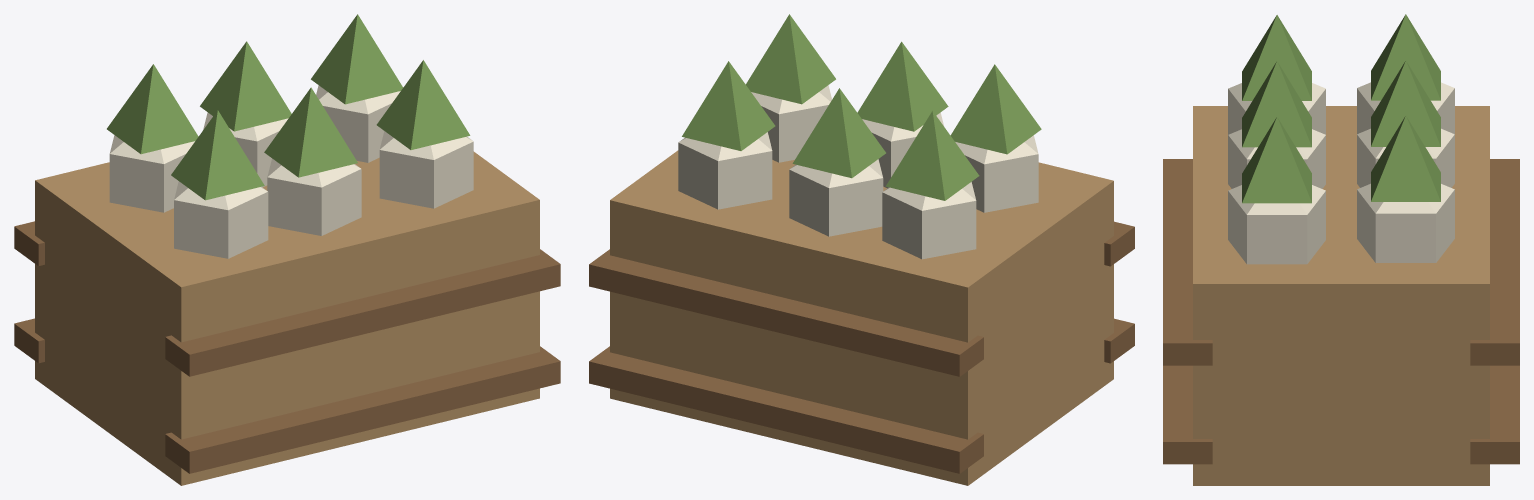
The model's file is work-crate.glb.
3 renders of one model, left to right at view 1: azimuth 30°, elevation 25°; view 2: azimuth 150°, elevation 25°; view 3: azimuth 270°, elevation 25°, orthographic.
Parts seen in each view (by area): view 1: work-crate; view 2: work-crate; view 3: work-crate.
Boxes of the visible parts, x1,y1,x2,y2 form: work-crate: (14,14,560,485); work-crate: (589,14,1134,485); work-crate: (1163,14,1519,485).
Bounding box in the file's own units: 0.88 × 0.74 × 0.72.
Materials: 1 (1 with a texture image).
